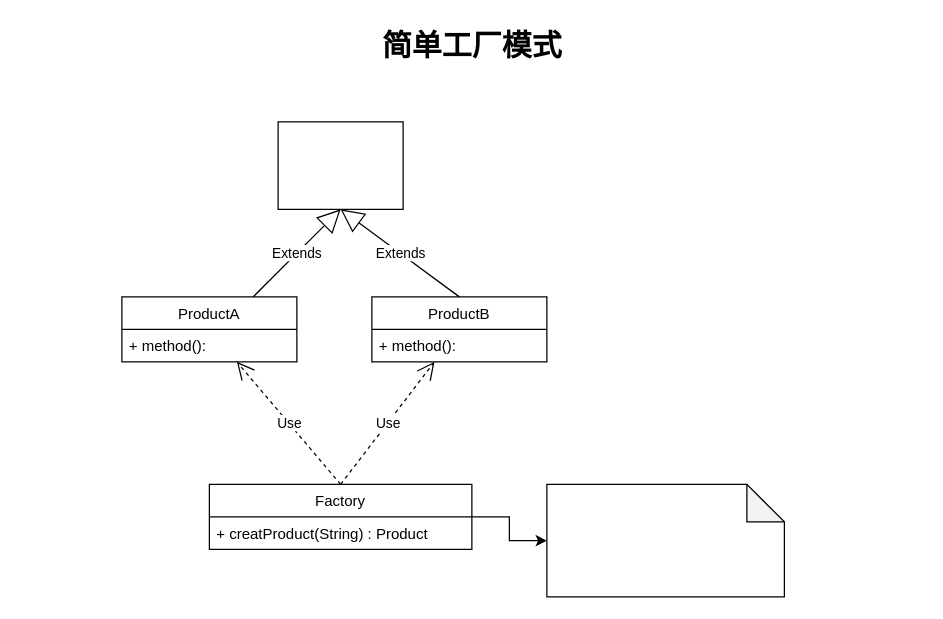
The diagram is 943 pixels wide and 619 high, and some of its shapes have lost their labels. The box of each missing label's shape, as (x1, y1, x2, y2) in pixels:
if(arg == 'A') return new ProductA(); else if(arg == 'B') return new ProductB();: (546, 483, 784, 597)
«abstract» Product + method():: (277, 121, 403, 209)
